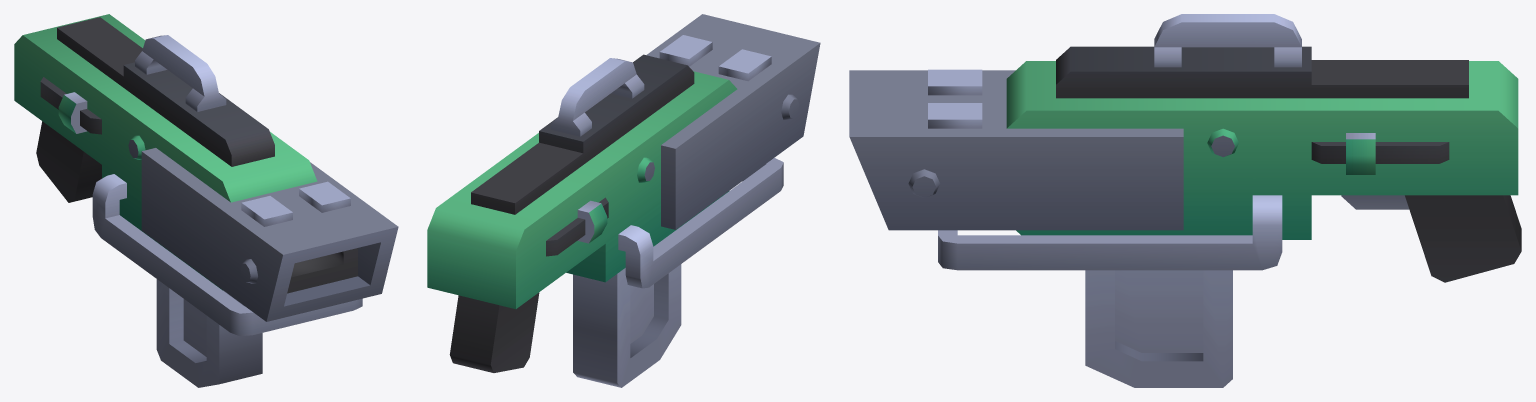
File: weapon-rocket.glb
The picture shows the model from 3 angles, left to right: view 1: azimuth 30°, elevation 25°; view 2: azimuth 150°, elevation 25°; view 3: azimuth 270°, elevation 25°; orthographic projection. The views are drawn at different scales.
Visible parts, largest first — view 1: blaster-r, magazine; view 2: blaster-r, magazine; view 3: blaster-r, magazine.
Part boxes in pixels (x1,y1,x2,y2): blaster-r: (14,14,398,336); magazine: (156,279,262,387); blaster-r: (427,14,820,372); magazine: (573,264,681,387); blaster-r: (849,14,1521,282); magazine: (1085,270,1232,387).
Bounding box in the file's own units: 0.1616 × 0.36 × 0.6137.
1 material, 1 textured.
